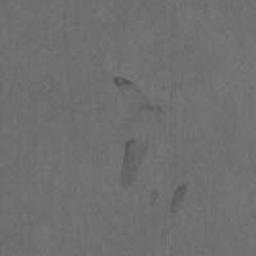Oil spot: (121, 139, 137, 187), (170, 184, 187, 213), (113, 77, 134, 87), (150, 190, 159, 205), (139, 103, 154, 111)
